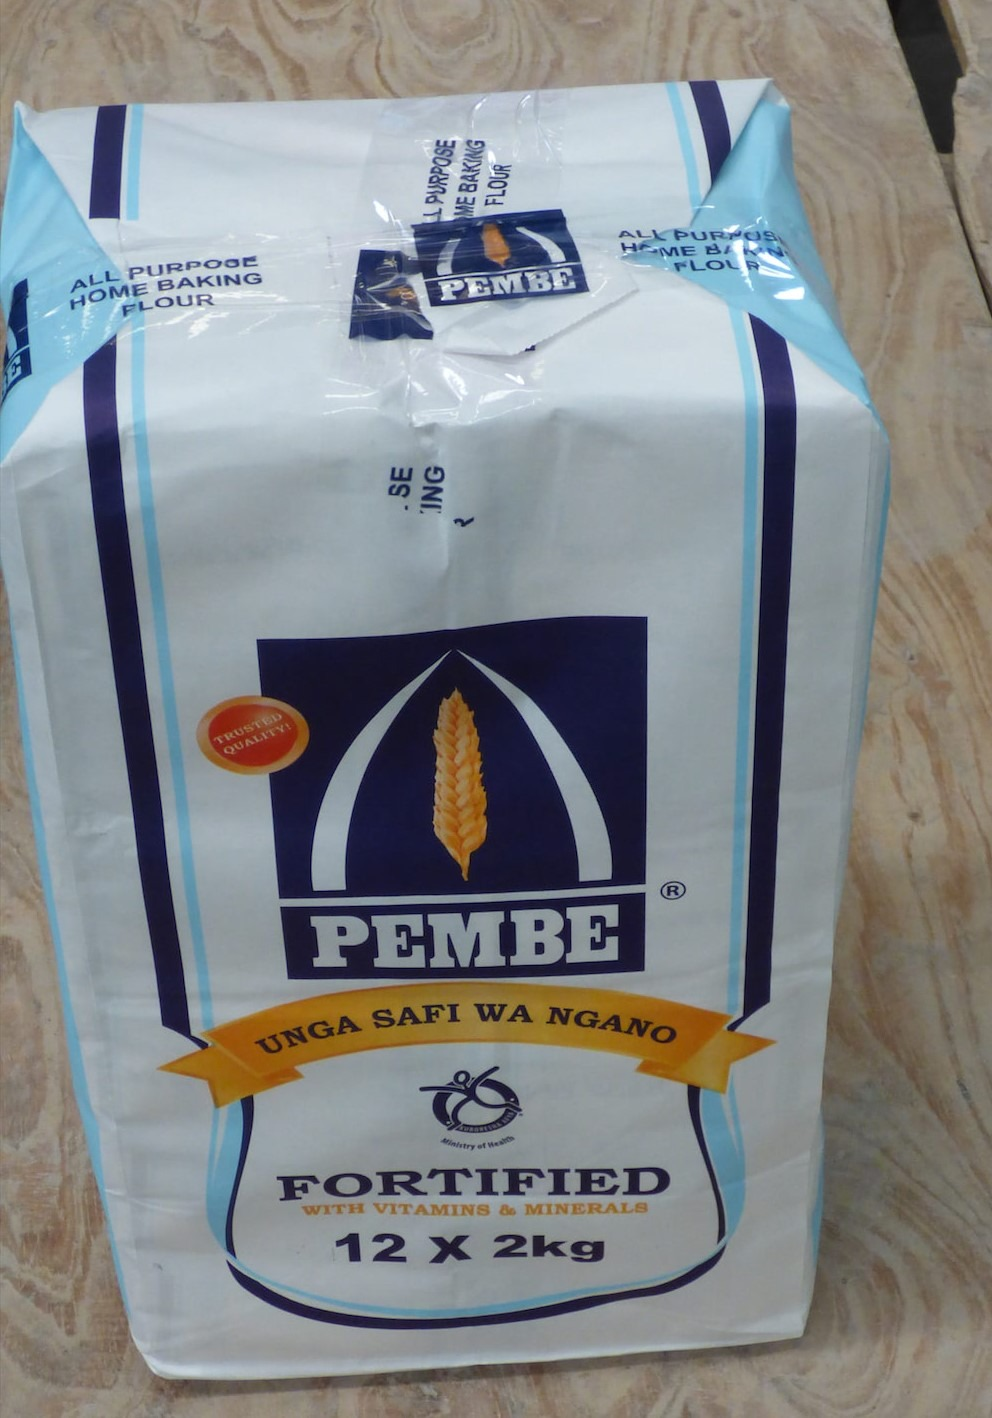wheat_flour_blue_label: (10, 78, 857, 1333)
